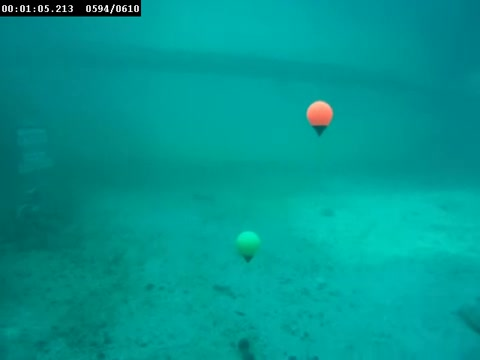buoy_green: (236, 228, 260, 263)
buoy_red: (305, 98, 334, 138)
